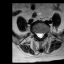CCS_normal: (39, 31, 41, 40)
LFS_normal: (44, 29, 46, 36)
LLS_normal: (41, 30, 44, 38)
RFS_normal: (34, 29, 37, 36)
RLS_normal: (37, 30, 39, 39)
